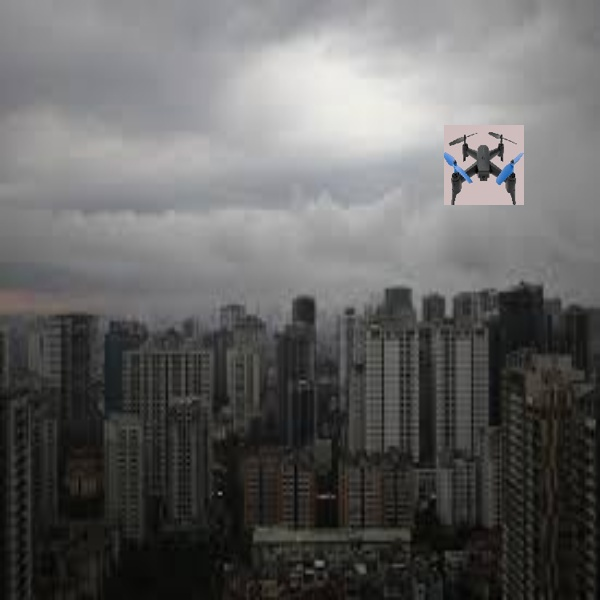drone: (441, 124, 527, 206)
